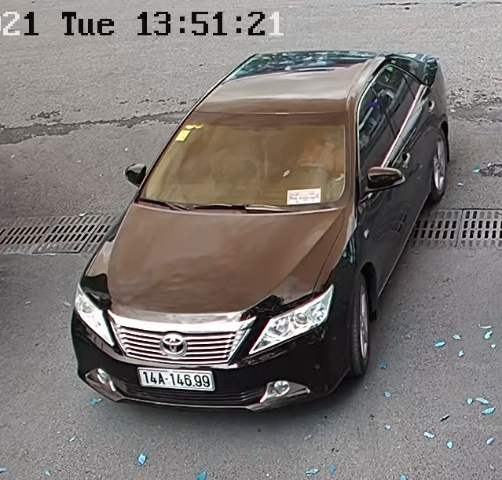vehicle plate: (132, 361, 222, 392)
